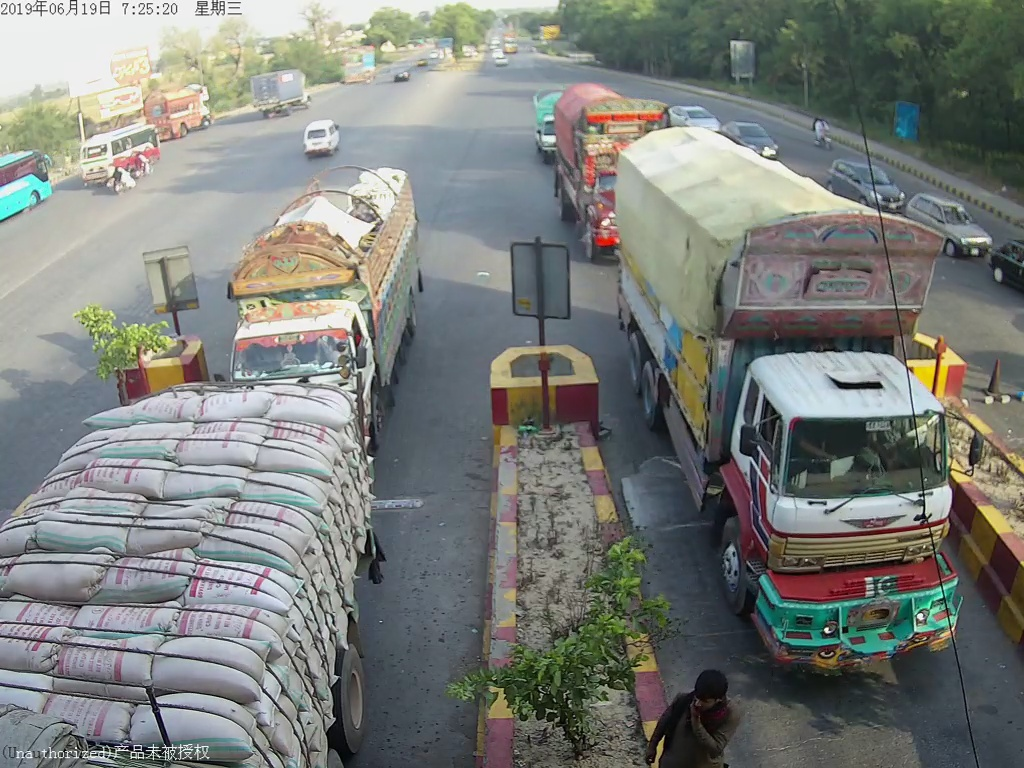Cat-4: (605, 134, 979, 669), (231, 172, 434, 371)
